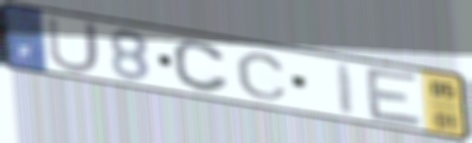8: (107, 27, 152, 84)
C: (170, 39, 233, 95), (233, 51, 291, 101)
E: (362, 65, 426, 130)
I: (334, 60, 357, 119)
U: (44, 14, 104, 76)
